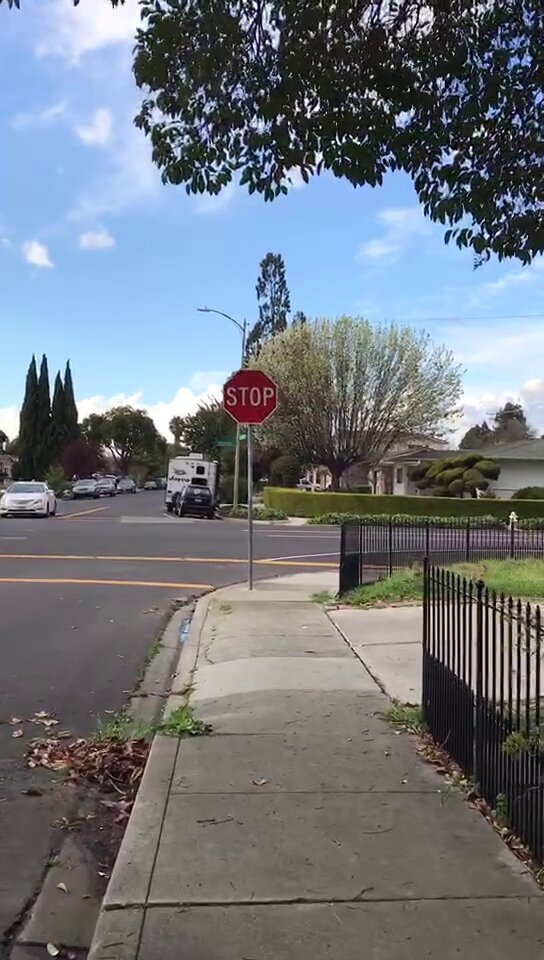stop_sign: (222, 370, 278, 425)
